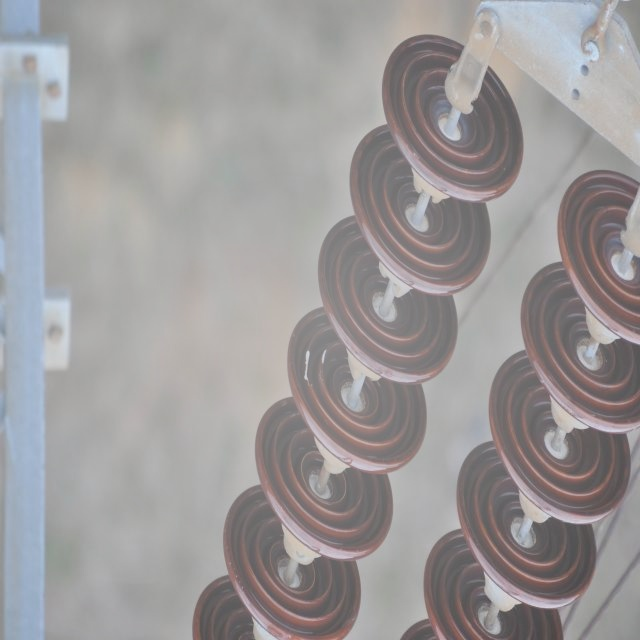insulator: (191, 35, 640, 633)
